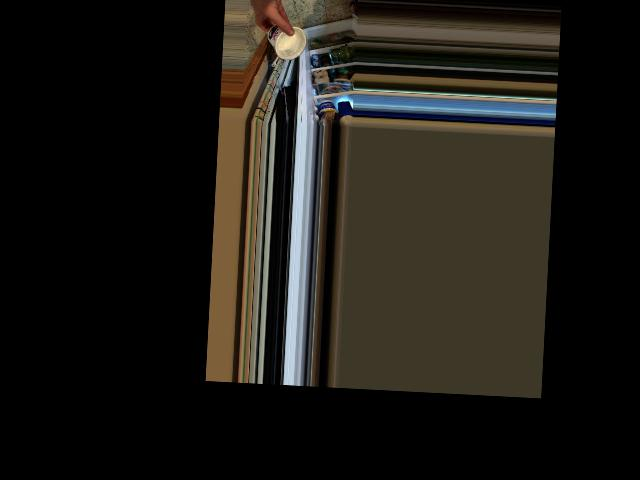cotage: (263, 20, 306, 62)
